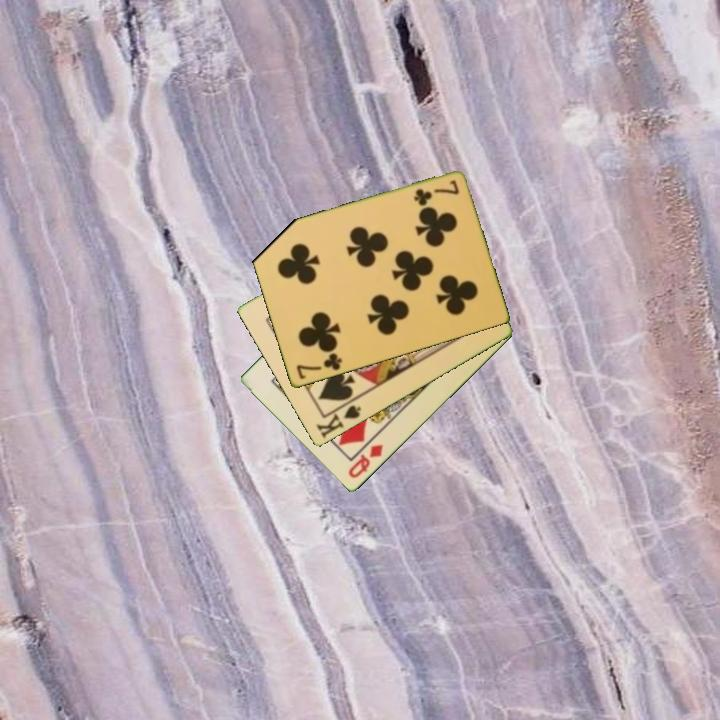7c: (293, 350, 345, 383), (410, 177, 462, 208)
Ks: (313, 395, 364, 441)
Qd: (345, 441, 386, 482)
